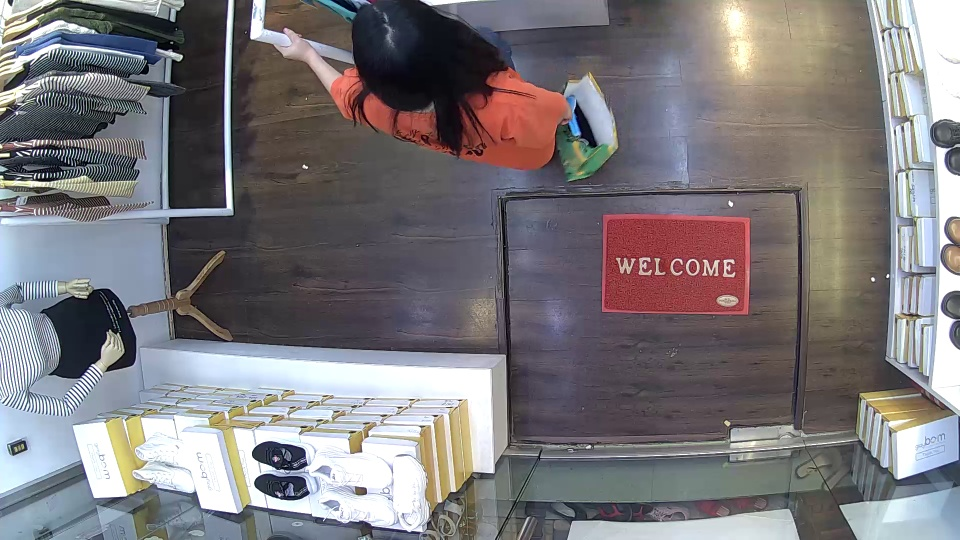topviewhead: (350, 1, 447, 94)
